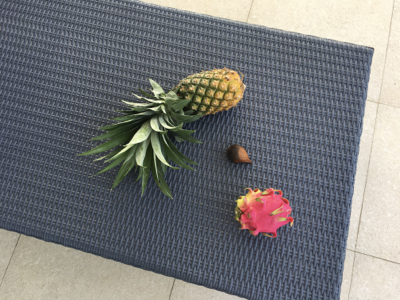dragon fruit: (234, 190, 295, 238)
pineapple: (77, 70, 246, 196)
snake fruit: (226, 143, 255, 169)
